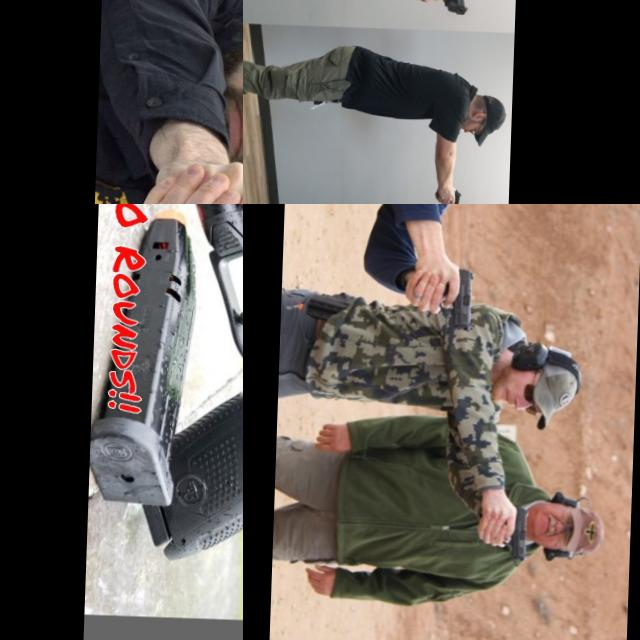handgun: (131, 204, 243, 575), (438, 266, 478, 334), (502, 504, 530, 564), (426, 0, 471, 28), (468, 0, 490, 21), (443, 187, 462, 204)
